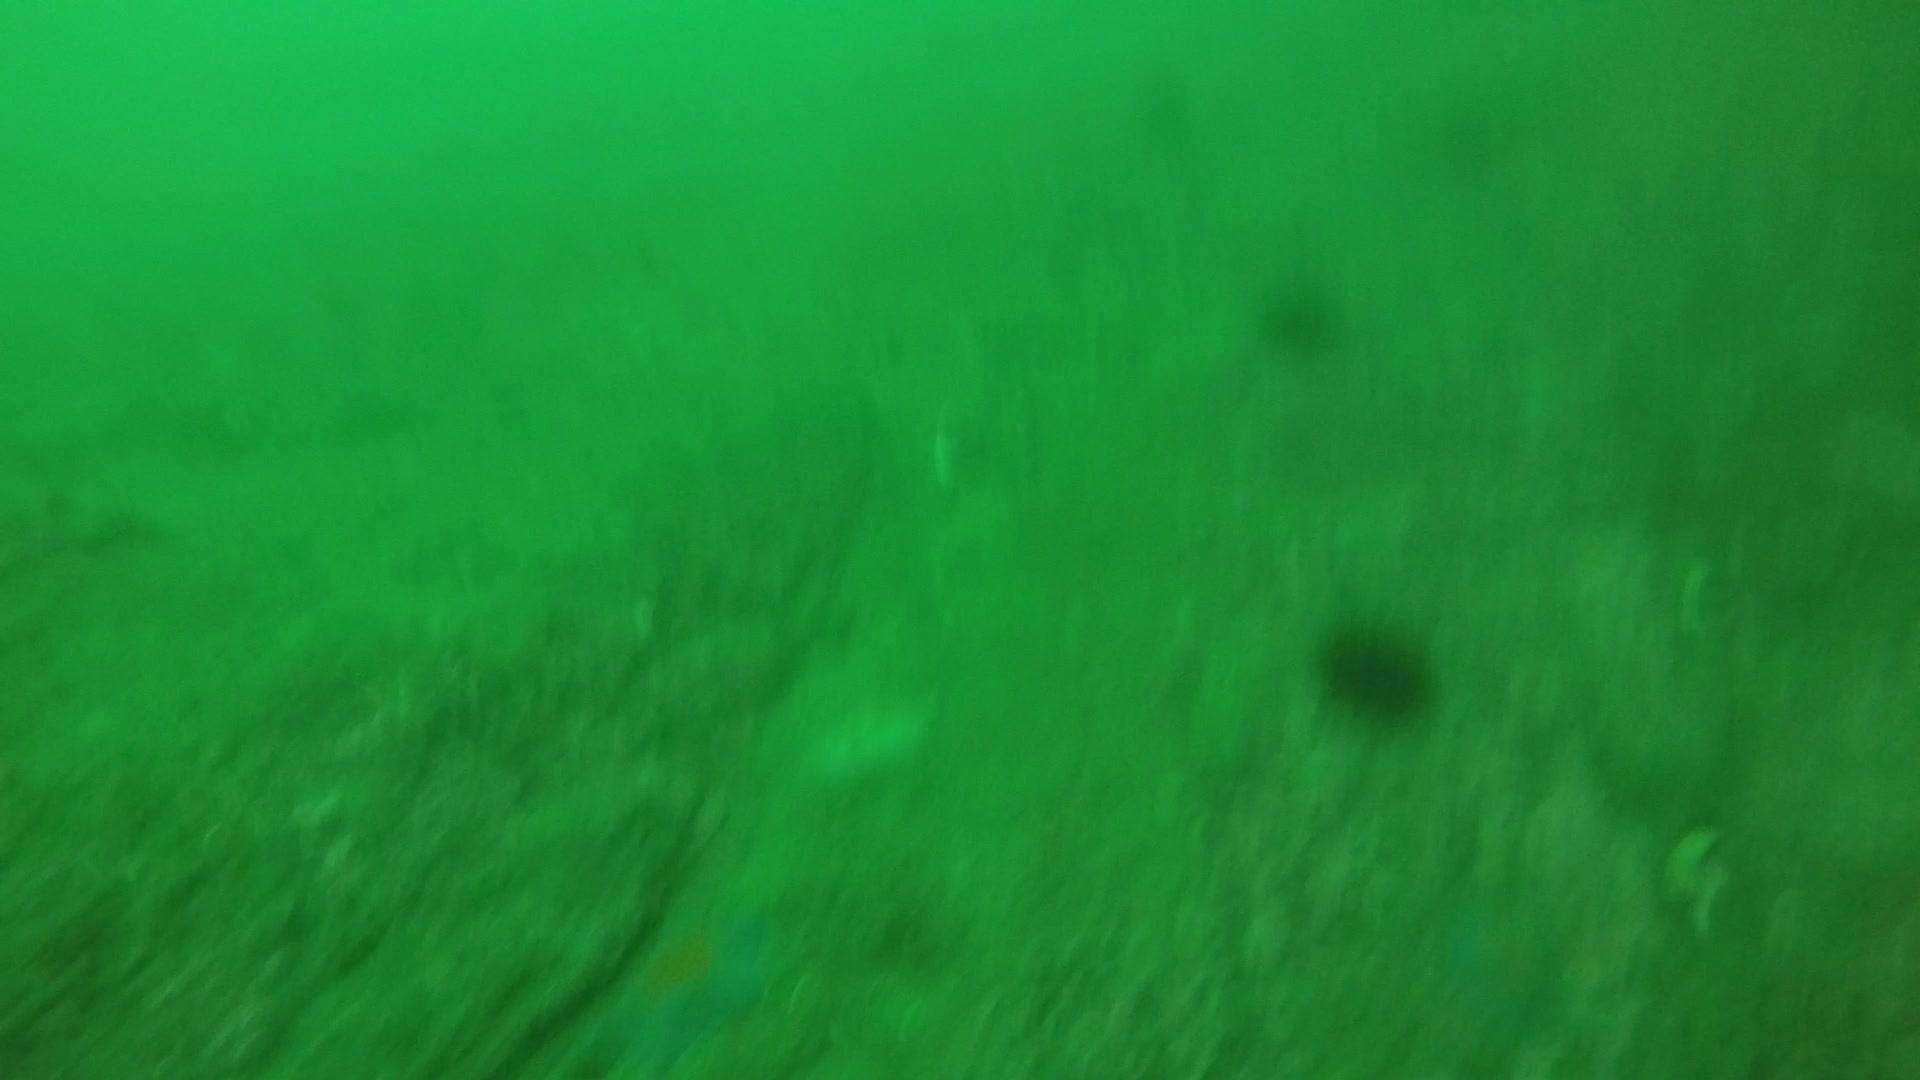echinus: (1313, 612, 1439, 725), (1250, 268, 1348, 363)
starfish: (589, 895, 779, 1077)
